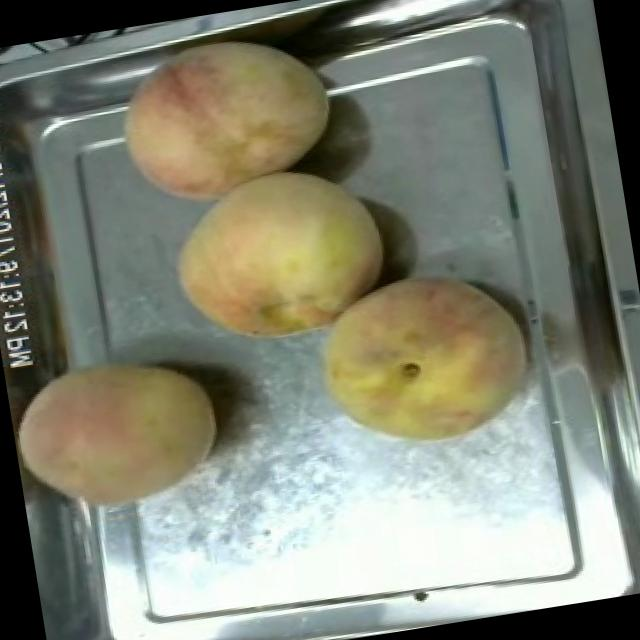Fruit: (99, 10, 352, 227), (152, 148, 402, 366), (299, 252, 546, 470), (3, 334, 235, 530)
